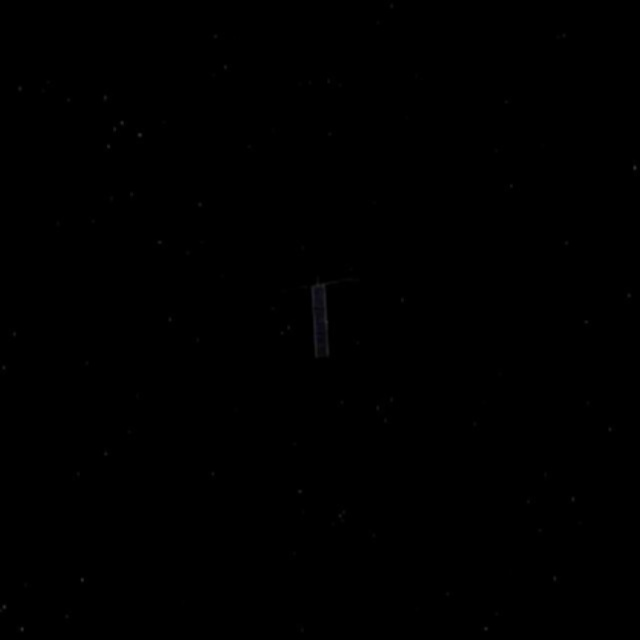satellite: (265, 267, 361, 358)
